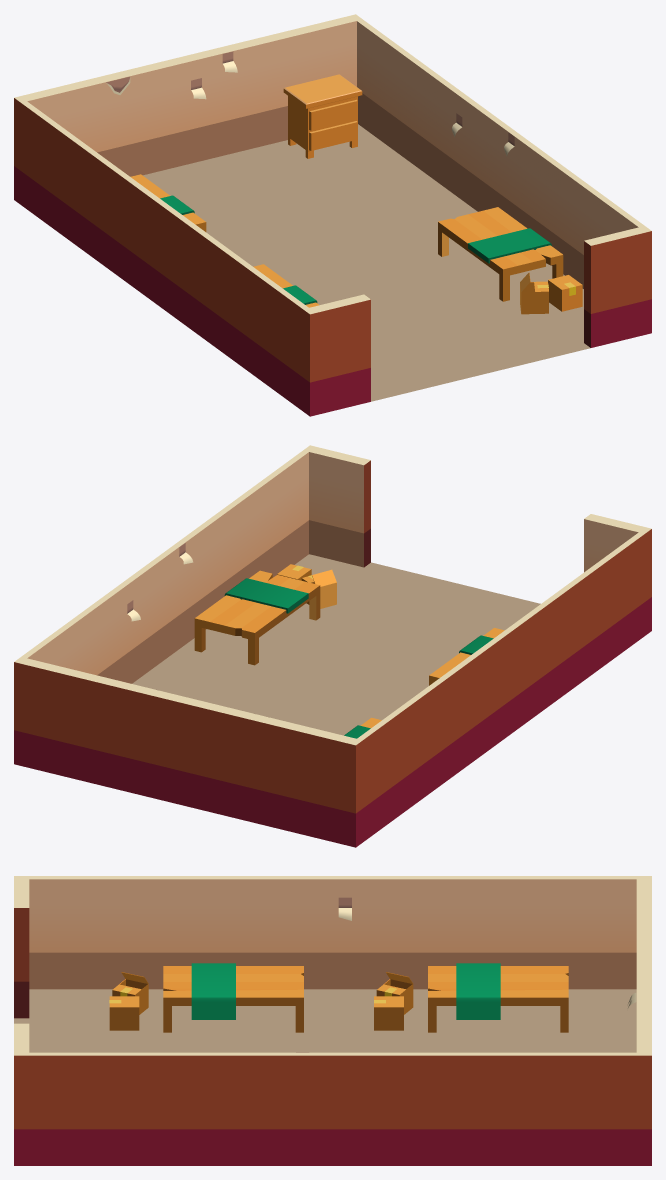
File: Barrack_Lv1_b_winter.fbx
3 views of the same model, one above another, from view 1: azimuth 30°, elevation 25°; view 2: azimuth 150°, elevation 25°; view 3: azimuth 270°, elevation 25° (orthographic). The views are drawn at different scales.
Parts seen in each view (by area): view 1: floor, wall_half8, wall33, wall_half9, wall35, wall34, Bed_3, Small_Cabinet, Box3, decor, Bed_1, Bed_2; view 2: wall33, floor, wall_half8, wall_half9, wall34, Bed_3, wall35, Box3, Bed_2; view 3: wall_half9, wall_half8, floor, Bed_1, Bed_2, wall33, wall35, Box2, Box1, wall34.
Boxes of the visible parts, bbox=[...] form: floor: bbox=[143, 124, 590, 401]; wall_half8: bbox=[14, 98, 309, 410]; wall33: bbox=[14, 14, 362, 203]; wall_half9: bbox=[350, 16, 646, 288]; wall35: bbox=[303, 294, 370, 416]; wall34: bbox=[584, 227, 651, 347]; Bed_3: bbox=[438, 207, 563, 301]; Small_Cabinet: bbox=[283, 74, 362, 158]; Box3: bbox=[520, 272, 582, 314]; decor: bbox=[106, 51, 514, 155]; Bed_1: bbox=[130, 174, 206, 231]; Bed_2: bbox=[253, 264, 319, 307]; wall33: bbox=[19, 657, 362, 846]; floor: bbox=[132, 554, 540, 735]; wall_half8: bbox=[349, 530, 646, 847]; wall_half9: bbox=[14, 448, 311, 765]; wall34: bbox=[306, 445, 370, 567]; Bed_3: bbox=[194, 570, 320, 665]; wall35: bbox=[584, 514, 651, 635]; Box3: bbox=[277, 564, 336, 608]; Bed_2: bbox=[429, 628, 504, 685]; wall_half9: bbox=[23, 1052, 651, 1165]; wall_half8: bbox=[23, 876, 651, 989]; floor: bbox=[14, 989, 636, 1052]; Bed_1: bbox=[428, 963, 568, 1032]; Bed_2: bbox=[163, 963, 303, 1032]; wall33: bbox=[636, 876, 651, 1165]; wall35: bbox=[14, 876, 29, 1018]; Box2: bbox=[109, 972, 148, 1030]; Box1: bbox=[374, 972, 413, 1030]; wall34: bbox=[14, 1023, 29, 1165].
Bounding box in the file's own units: 700 × 201 × 1050.
